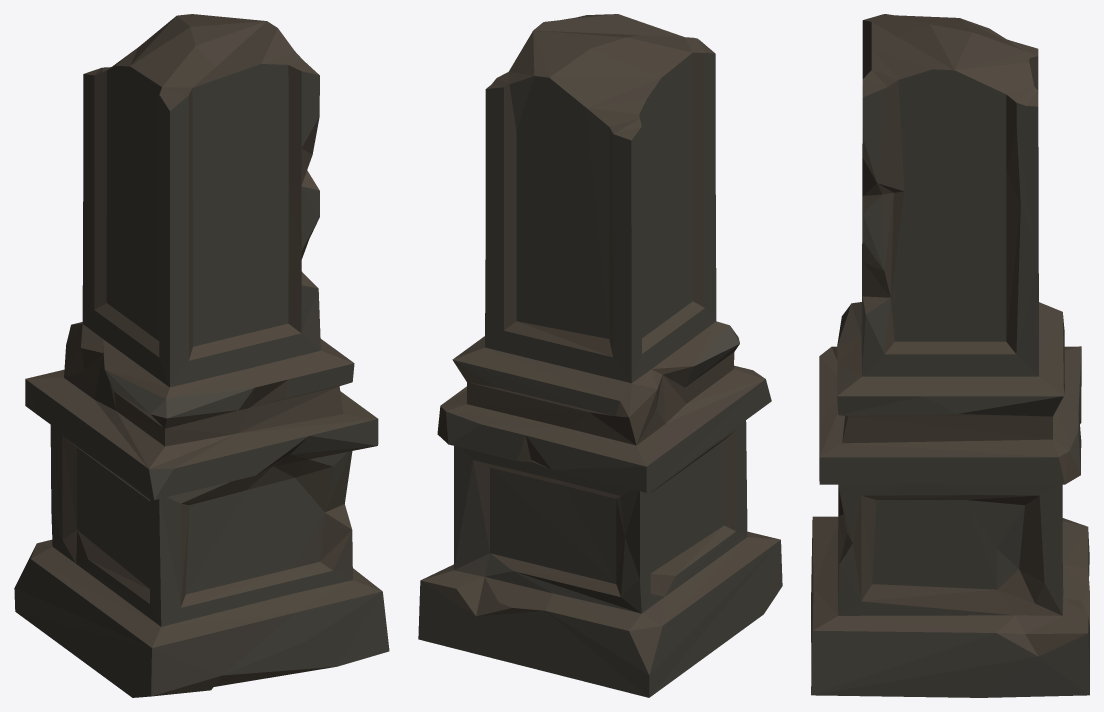
Rendered from source.gltf.
3 views of the same model, side by side, from view 1: azimuth 30°, elevation 25°; view 2: azimuth 150°, elevation 25°; view 3: azimuth 270°, elevation 25° (orthographic). The views are drawn at different scales.
Visible parts, largest first — view 1: SM_Prop_Pillar_Broken_02; view 2: SM_Prop_Pillar_Broken_02; view 3: SM_Prop_Pillar_Broken_02.
Boxes of the visible parts, bbox=[...] form: SM_Prop_Pillar_Broken_02: bbox=[14, 14, 389, 697]; SM_Prop_Pillar_Broken_02: bbox=[418, 14, 782, 697]; SM_Prop_Pillar_Broken_02: bbox=[811, 14, 1089, 697].
Bounding box in the file's own units: 0.6337 × 1.52 × 0.6337.
1 material, 1 textured.
